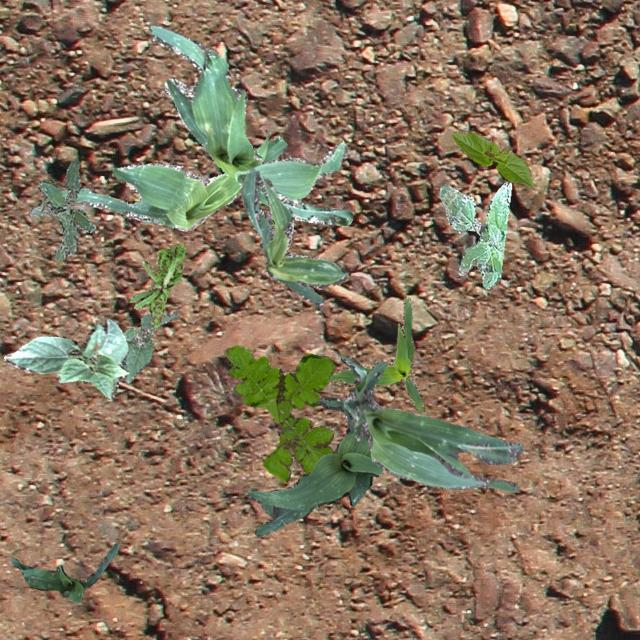crop: (148, 24, 352, 224), (246, 352, 382, 536), (342, 360, 522, 490), (61, 134, 286, 230), (240, 168, 348, 306), (328, 296, 424, 412), (2, 318, 128, 400), (10, 542, 119, 602), (450, 130, 532, 188), (121, 312, 178, 382)
weed: (224, 344, 334, 480), (438, 180, 511, 288), (27, 156, 94, 260), (128, 244, 184, 326)
